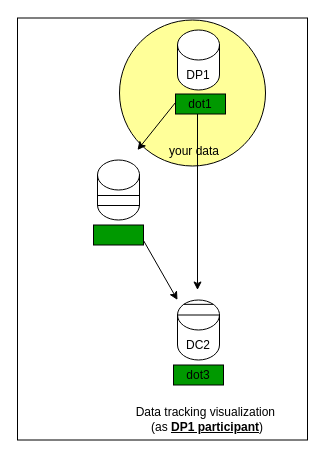
Image size: 325x457. Some labels were removed from this diagram. The shapes that lost their labels are listed below. From the top down, each one's centre as x and y in pixels, then its label:
At point 118,189: "DC1".
At point 118,234: "dot2".
